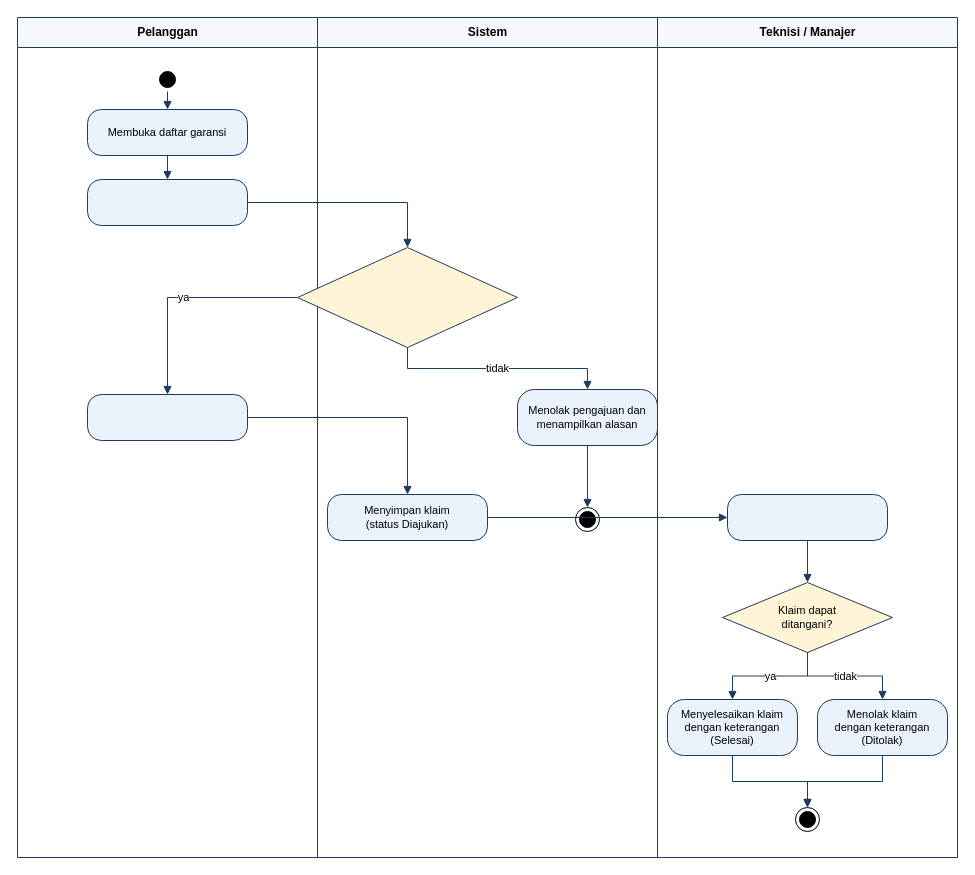
Image size: 975x875. Some labels were removed from this diagram. The centre of each missing label's shape, as x and y in pixels:
Garansi aktif, tidak ada klaim berjalan, dan jatah klaim belum habis?: the point at 407,297
Memilih garansi dan menekan Klaim: the point at 167,202
Memproses klaim (status Diproses): the point at 807,517
Mengisi keluhan dan kondisi barang: the point at 167,417
